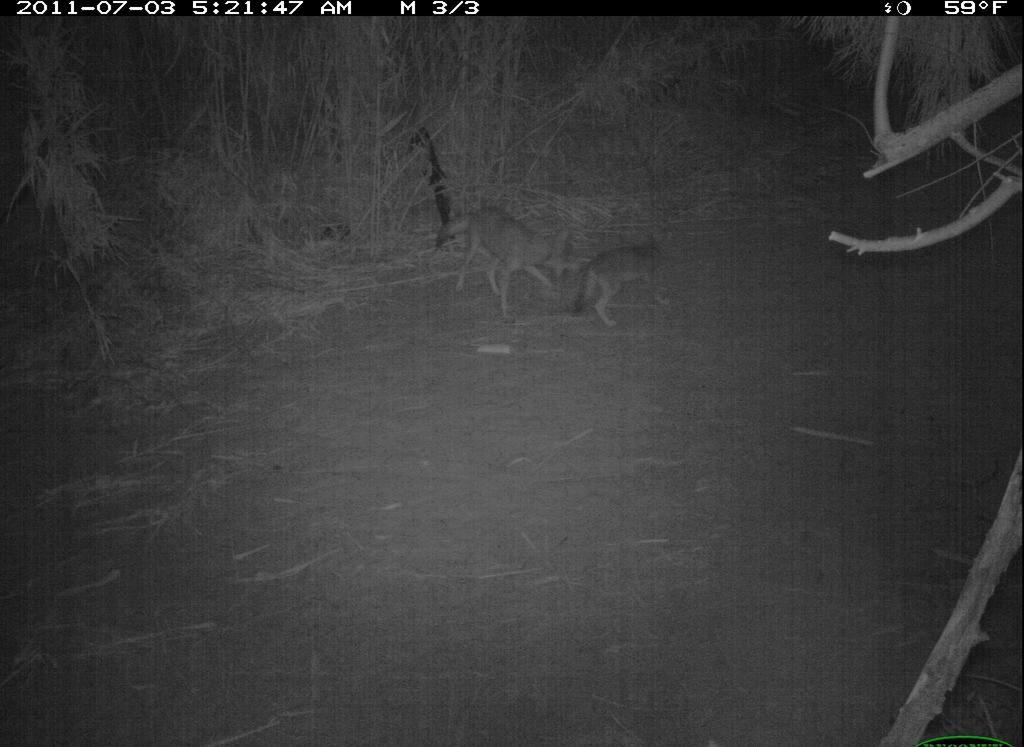coyote: (427, 200, 579, 326), (576, 229, 680, 331)
